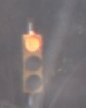Red: (18, 31, 46, 100)
